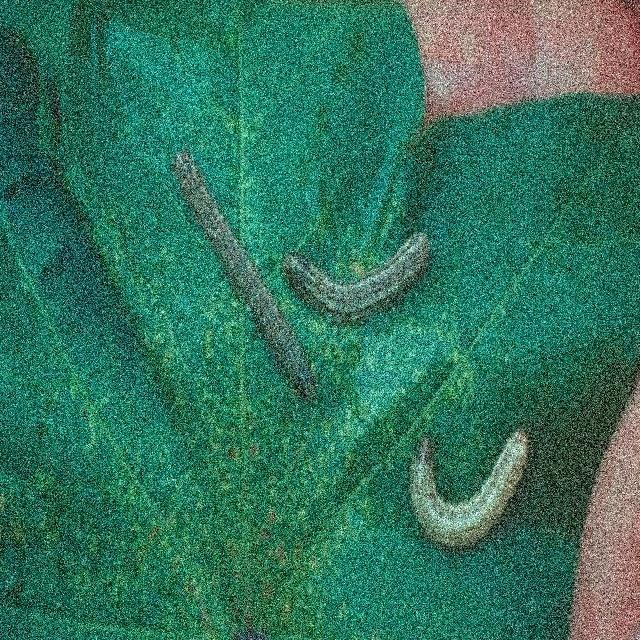Plaga: (178, 164, 320, 396), (413, 428, 530, 545), (291, 231, 429, 318)
